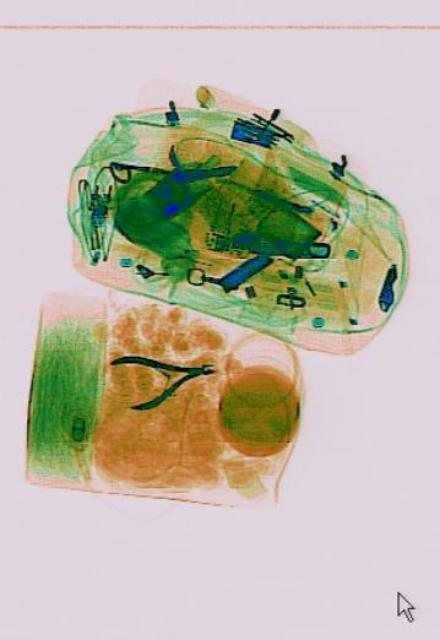Pliers: (106, 337, 215, 415)
